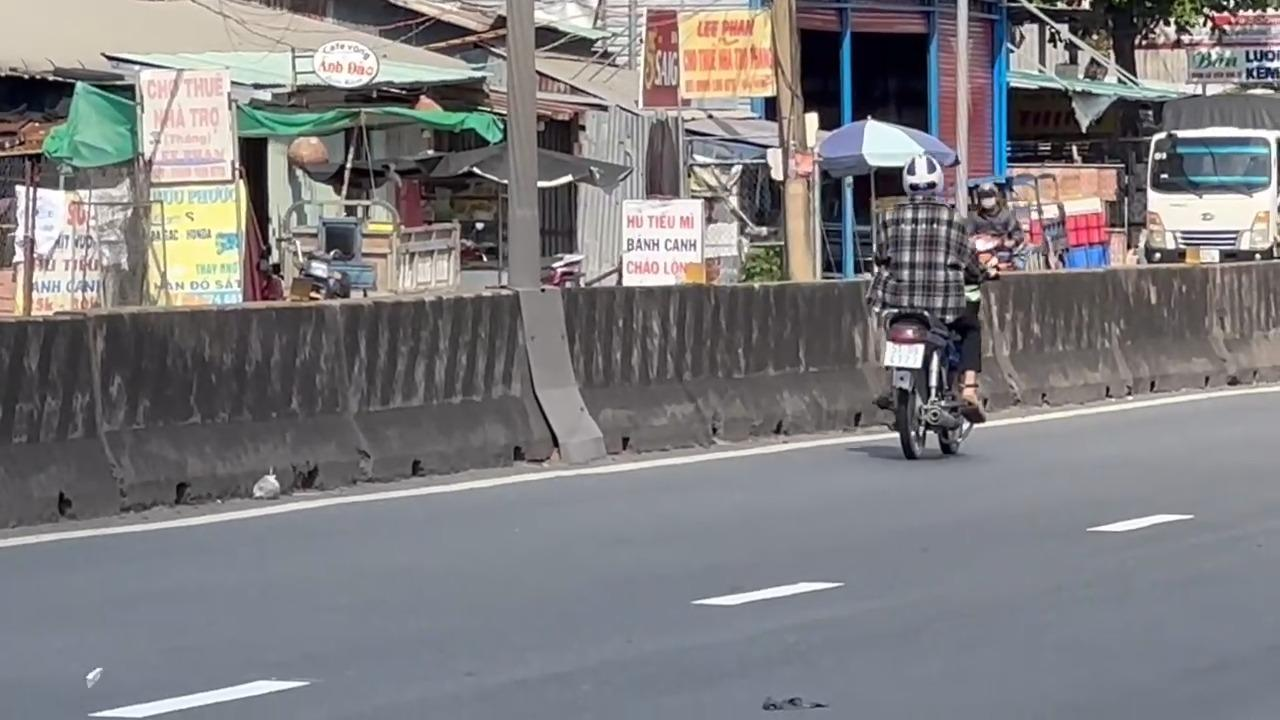bien_so: (882, 339, 926, 369)
